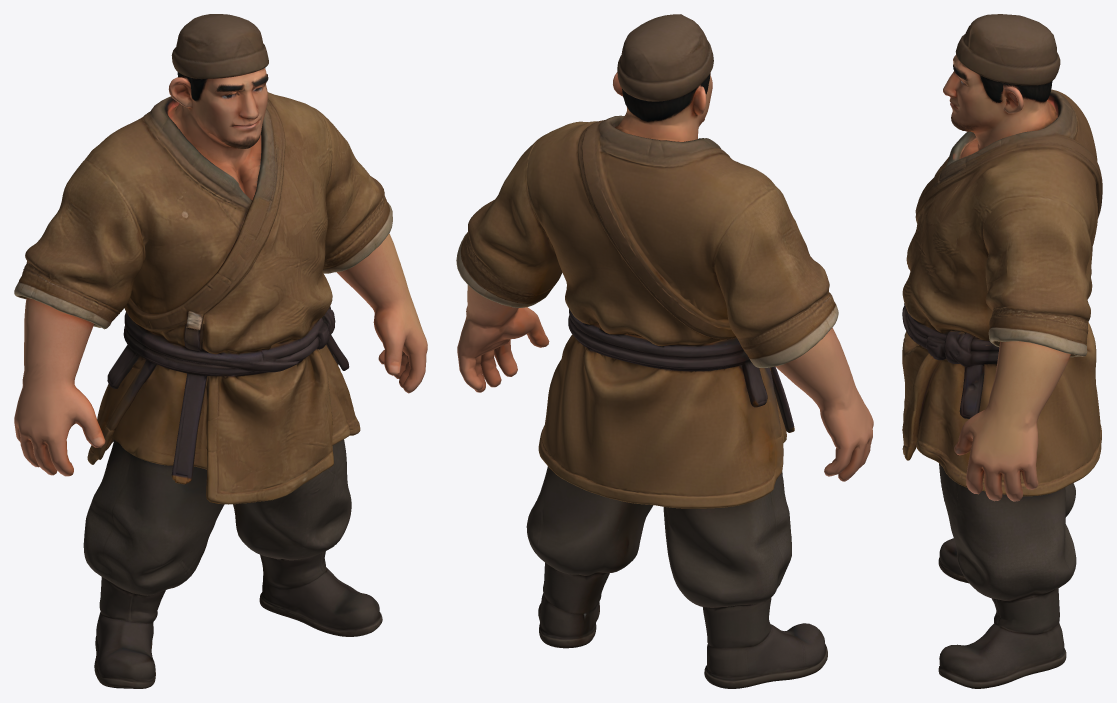
Rendered from ganfu.glb.
The picture shows the model from 3 angles, left to right: view 1: azimuth 30°, elevation 25°; view 2: azimuth 150°, elevation 25°; view 3: azimuth 270°, elevation 25°; orthographic projection. The views are drawn at different scales.
Parts seen in each view (by area): view 1: tripo_node_c3c6a259-6e20-4811-8d87-dd6842442e46; view 2: tripo_node_c3c6a259-6e20-4811-8d87-dd6842442e46; view 3: tripo_node_c3c6a259-6e20-4811-8d87-dd6842442e46.
Part boxes in pixels (left/top/right/bottom): tripo_node_c3c6a259-6e20-4811-8d87-dd6842442e46: left=14, top=14, right=427, bottom=688; tripo_node_c3c6a259-6e20-4811-8d87-dd6842442e46: left=456, top=14, right=873, bottom=688; tripo_node_c3c6a259-6e20-4811-8d87-dd6842442e46: left=902, top=14, right=1102, bottom=688.
Bounding box in the file's own units: 1.13 × 1.69 × 0.5049.
Materials: 1 (1 with a texture image).
